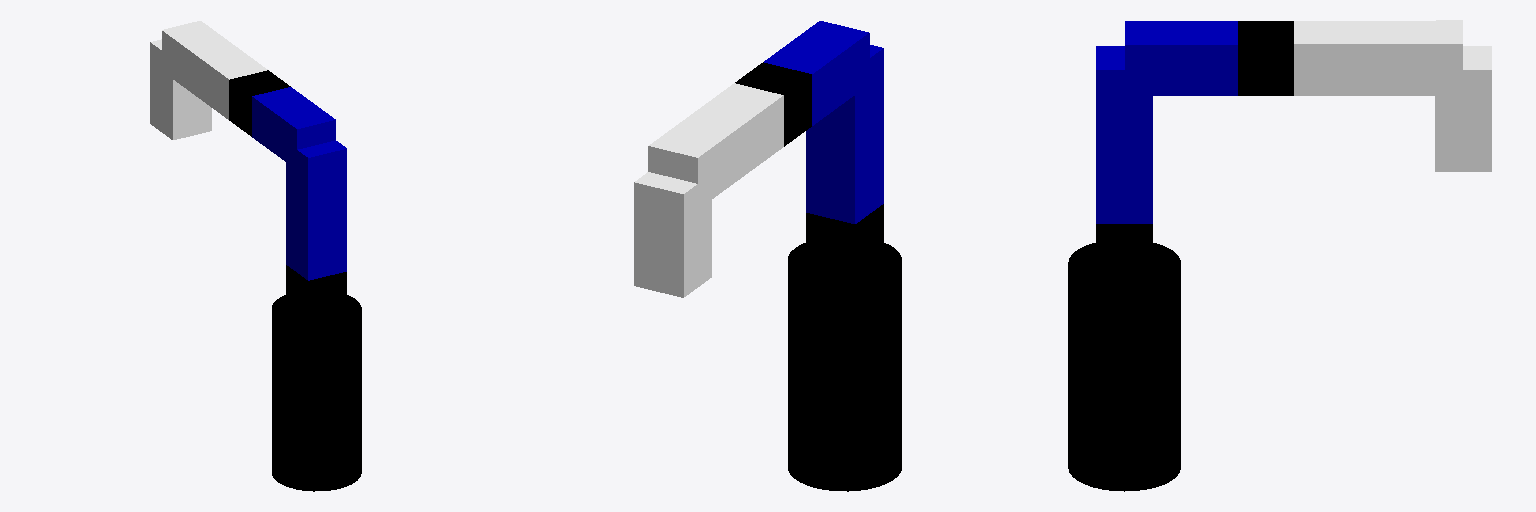
The robot description file, URDF, robot "ModularBot":
<?xml version="1.0" ?>
<!-- =================================================================================== -->
<!-- |    This document was autogenerated by xacro from ModularBot_test.urdf.xacro     | -->
<!-- |    EDITING THIS FILE BY HAND IS NOT RECOMMENDED                                 | -->
<!-- =================================================================================== -->
<robot name="ModularBot" xmlns:xacro="http://ros.org/wiki/xacro">
  <material name="blue">
    <color rgba="0 0 0.8 1"/>
  </material>
  <material name="black">
    <color rgba="0 0 0 1"/>
  </material>
  <material name="white">
    <color rgba="1 1 1 1"/>
  </material>
  <link name="base_link"/>
  <link name="link_0">
    <visual>
      <origin rpy="0 0 0" xyz="0 0 0.2"/>
      <geometry>
        <cylinder length="0.4" radius="0.1"/>
      </geometry>
      <material name="black"/>
    </visual>
    <collision>
      <geometry>
        <cylinder length="0.4" radius="0.1"/>
      </geometry>
    </collision>
    <inertial>
      <mass value="10"/>
      <inertia ixx="1.0" ixy="0.0" ixz="0.0" iyy="1.0" iyz="0.0" izz="1.0"/>
    </inertial>
  </link>
  <joint name="fixed" type="fixed">
    <parent link="base_link"/>
    <child link="link_0"/>
  </joint>
  <link name="link_1">
    <visual>
      <origin rpy="0 0 0" xyz="0 0 0.15"/>
      <geometry>
        <box size="0.1 0.1 0.3"/>
      </geometry>
      <material name="blue"/>
    </visual>
    <visual>
      <origin rpy="0 0 0" xyz="0 0.1 0.3"/>
      <geometry>
        <box size="0.1 0.2 0.1"/>
      </geometry>
      <material name="blue"/>
    </visual>
    <visual>
      <origin rpy="0 0 0" xyz="0 0 -0.05"/>
      <geometry>
        <box size="0.1 0.1 0.1"/>
      </geometry>
      <material name="black"/>
    </visual>
    <collision>
      <origin rpy="0 0 0" xyz="0 0 0.15"/>
      <geometry>
        <box size="0.1 0.1 0.3"/>
      </geometry>
    </collision>
    <collision>
      <origin rpy="0 0 0" xyz="0 0.1 0.3"/>
      <geometry>
        <box size="0.1 0.2 0.1"/>
      </geometry>
    </collision>
    <collision>
      <origin rpy="0 0 0" xyz="0 0 -0.05"/>
      <geometry>
        <box size="0.1 0.1 0.1"/>
      </geometry>
      <material name="black"/>
    </collision>
    <inertial>
      <mass value="1"/>
      <inertia ixx="1.0" ixy="0.0" ixz="0.0" iyy="1.0" iyz="0.0" izz="1.0"/>
    </inertial>
  </link>
  <joint name="joint_0_1" type="continuous">
    <axis rpy="0 0 0" xyz="0 0 1"/>
    <parent link="link_0"/>
    <child link="link_1"/>
    <origin rpy="0.0 -0.0 0.0" xyz="0.0 0.0 0.5"/>
  </joint>
  <link name="link_2">
    <visual>
      <origin rpy="0 0 0" xyz="0 0 0.15"/>
      <geometry>
        <box size="0.1 0.1 0.3"/>
      </geometry>
      <material name="white"/>
    </visual>
    <visual>
      <origin rpy="0 0 0" xyz="0 0.1 0.3"/>
      <geometry>
        <box size="0.1 0.2 0.1"/>
      </geometry>
      <material name="white"/>
    </visual>
    <visual>
      <origin rpy="0 0 0" xyz="0 0 -0.05"/>
      <geometry>
        <box size="0.1 0.1 0.1"/>
      </geometry>
      <material name="black"/>
    </visual>
    <collision>
      <origin rpy="0 0 0" xyz="0 0 0.15"/>
      <geometry>
        <box size="0.1 0.1 0.3"/>
      </geometry>
    </collision>
    <collision>
      <origin rpy="0 0 0" xyz="0 0.1 0.3"/>
      <geometry>
        <box size="0.1 0.2 0.1"/>
      </geometry>
    </collision>
    <collision>
      <origin rpy="0 0 0" xyz="0 0 -0.05"/>
      <geometry>
        <box size="0.1 0.1 0.1"/>
      </geometry>
      <material name="black"/>
    </collision>
    <inertial>
      <mass value="1"/>
      <inertia ixx="1.0" ixy="0.0" ixz="0.0" iyy="1.0" iyz="0.0" izz="1.0"/>
    </inertial>
  </link>
  <joint name="joint_1_2" type="continuous">
    <axis rpy="0 0 0" xyz="0 0 1"/>
    <parent link="link_1"/>
    <child link="link_2"/>
    <origin rpy="-1.57 -0.0 0.0" xyz="0.0 0.29999990488 0.300238898013"/>
  </joint>
</robot>

--- Render facts (derived) ---
The picture shows the robot from 3 angles, left to right: view 1: azimuth 30°, elevation 25°; view 2: azimuth 150°, elevation 25°; view 3: azimuth 270°, elevation 25°; orthographic projection.
Robot: ModularBot — 4 links, 3 joints (2 continuous, 1 fixed); root link base_link; default pose: every joint at zero.
Visible links, largest first — view 1: link_0, link_1, link_2; view 2: link_0, link_2, link_1; view 3: link_0, link_2, link_1.
Link boxes in pixels (x1=…): link_0: x1=272, y1=295, x2=361, y2=491; link_1: x1=252, y1=87, x2=346, y2=321; link_2: x1=150, y1=21, x2=290, y2=139; link_0: x1=788, y1=243, x2=901, y2=491; link_2: x1=634, y1=62, x2=811, y2=297; link_1: x1=764, y1=21, x2=883, y2=275; link_0: x1=1068, y1=243, x2=1180, y2=491; link_2: x1=1238, y1=20, x2=1491, y2=171; link_1: x1=1096, y1=21, x2=1237, y2=274.
Size in the robot's own frame: 0.2 by 0.7502 by 0.8505 metres.
Geometry: primitives only (box / cylinder / sphere), no mesh files.